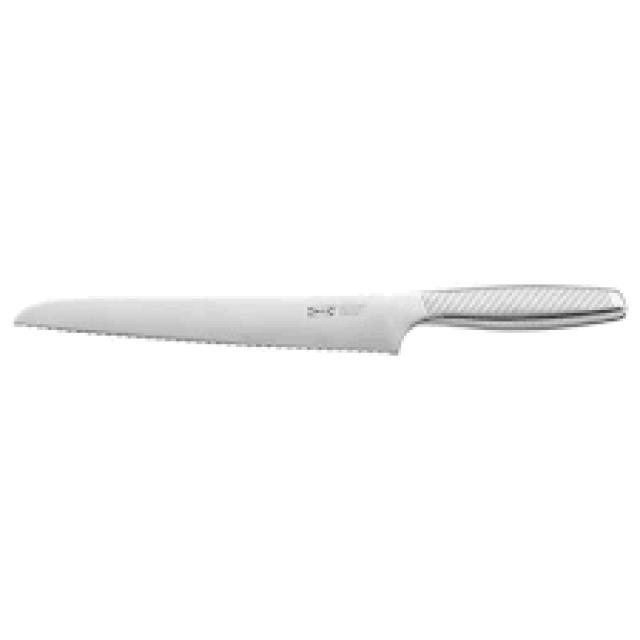Knife: (14, 284, 626, 353)
